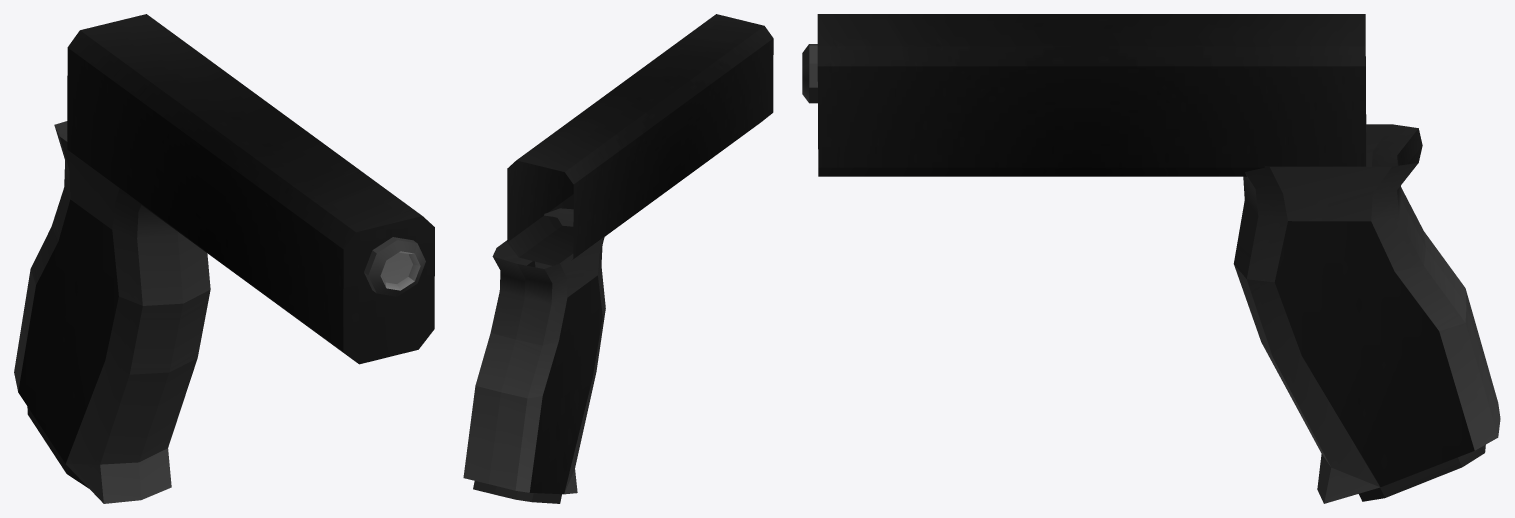
Rendered from PistolBody_mesh.fbx.
3 views of the same model, side by side, from view 1: azimuth 30°, elevation 25°; view 2: azimuth 150°, elevation 25°; view 3: azimuth 270°, elevation 25° (orthographic). The views are drawn at different scales.
Visible parts, largest first — view 1: PistolBody_mesh; view 2: PistolBody_mesh; view 3: PistolBody_mesh.
Part boxes in pixels (left/top/right/bottom): PistolBody_mesh: left=14, top=14, right=434, bottom=503; PistolBody_mesh: left=463, top=14, right=773, bottom=503; PistolBody_mesh: left=802, top=14, right=1500, bottom=503.
Bounding box in the file's own units: 2.92 × 13.83 × 19.11.
